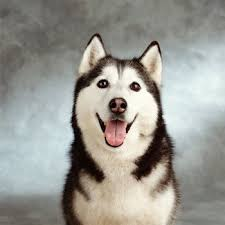dog: (91, 72, 153, 153)
